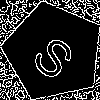S: (28, 26, 85, 83)
